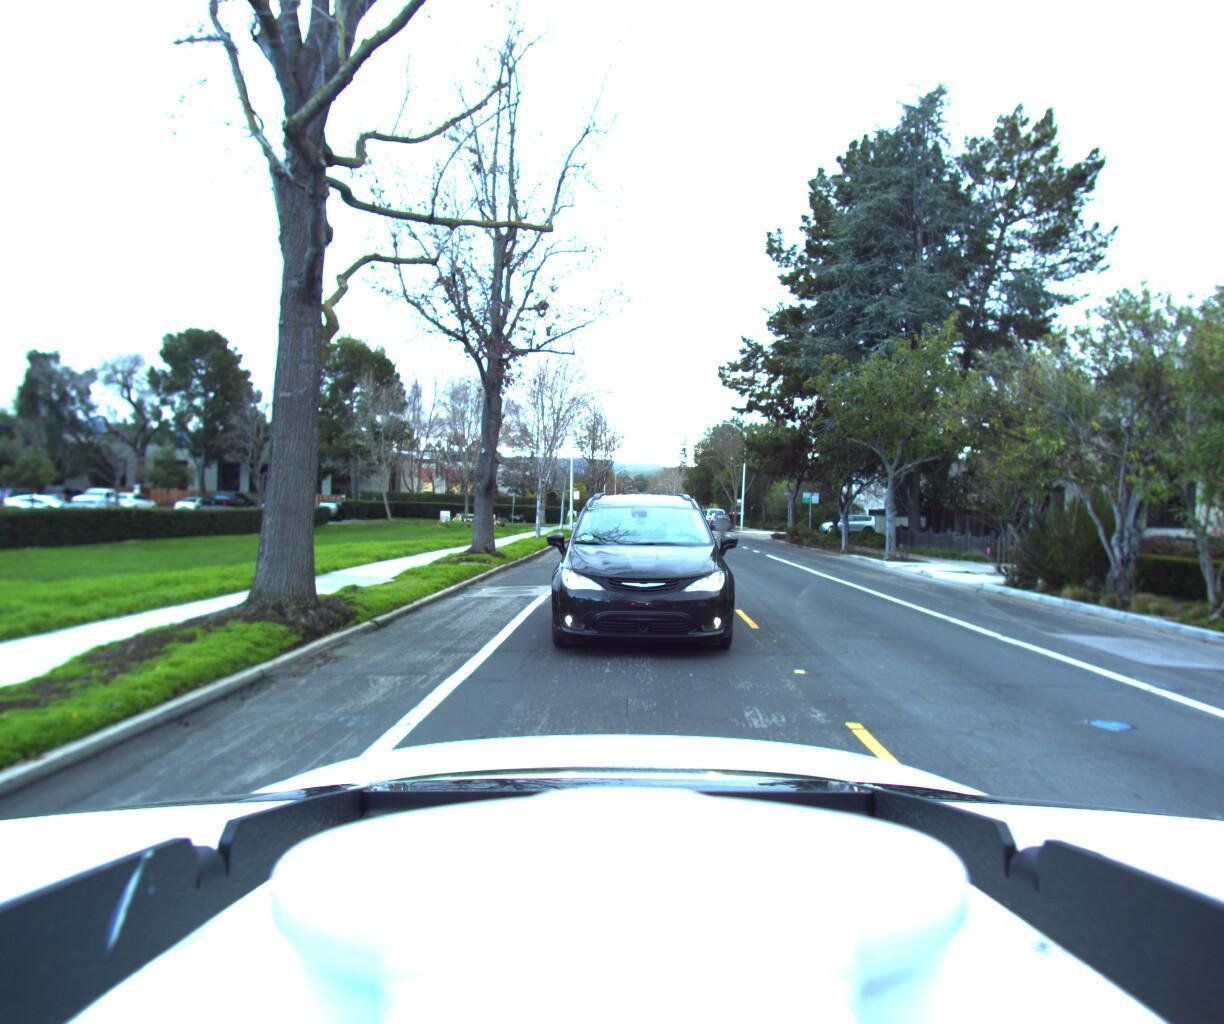car: (539, 482, 736, 668), (816, 507, 882, 531), (701, 502, 727, 524), (706, 507, 732, 526)
